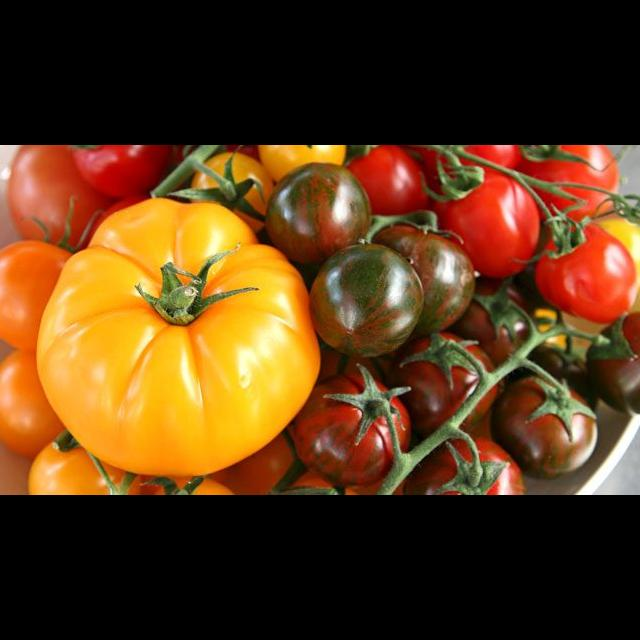tomato: (31, 172, 332, 480), (472, 338, 606, 474), (292, 241, 430, 360), (390, 329, 526, 449), (0, 257, 78, 450), (424, 156, 540, 276), (254, 161, 378, 257), (0, 150, 112, 250), (536, 220, 640, 321), (310, 367, 406, 475), (335, 145, 431, 234), (518, 145, 640, 213)
